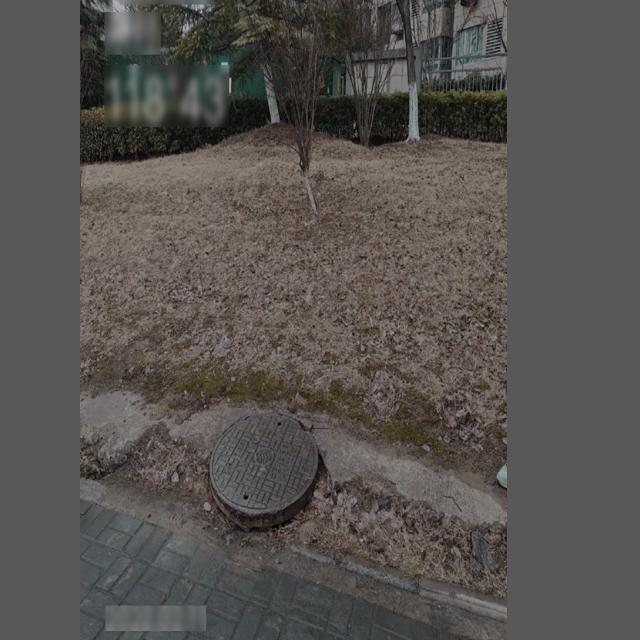circle: (206, 407, 324, 527)
